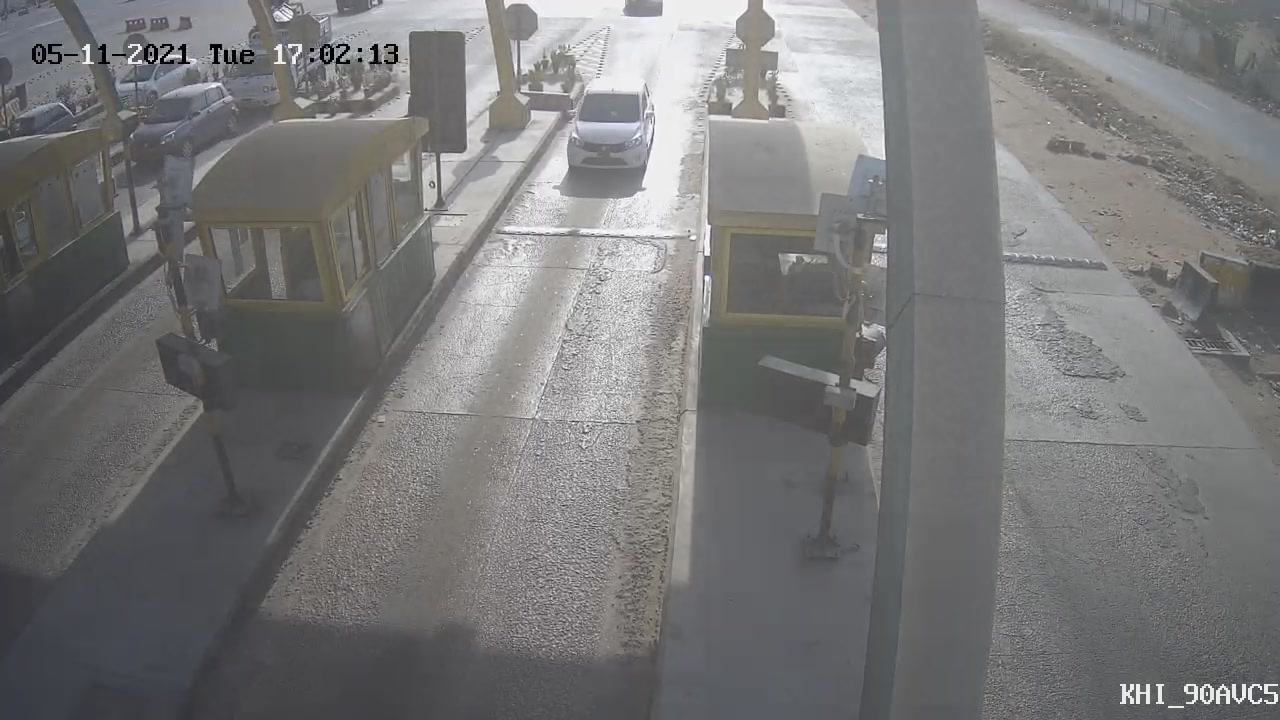F1: (544, 61, 666, 190)
